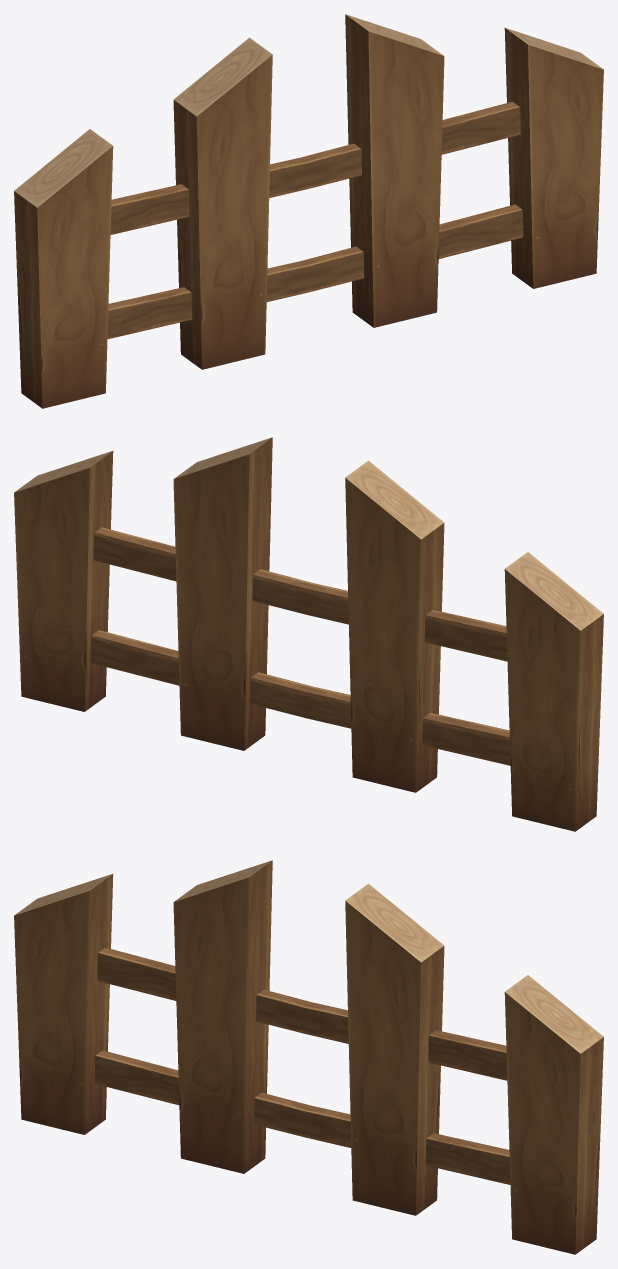
File: obj_town_fence.fbx
3 renders of one model, top to bottom at view 1: azimuth 30°, elevation 25°; view 2: azimuth 150°, elevation 25°; view 3: azimuth 330°, elevation 25°, orthographic.
Parts seen in each view (by area): view 1: wooden_fence_01:Mesh; view 2: wooden_fence_01:Mesh; view 3: wooden_fence_01:Mesh.
Part boxes in pixels (x1=…): wooden_fence_01:Mesh: x1=14, y1=14, x2=603, y2=408; wooden_fence_01:Mesh: x1=14, y1=437, x2=603, y2=831; wooden_fence_01:Mesh: x1=14, y1=860, x2=603, y2=1254.
Size of the model in its own units: 6.22 by 3.14 by 0.4425.
